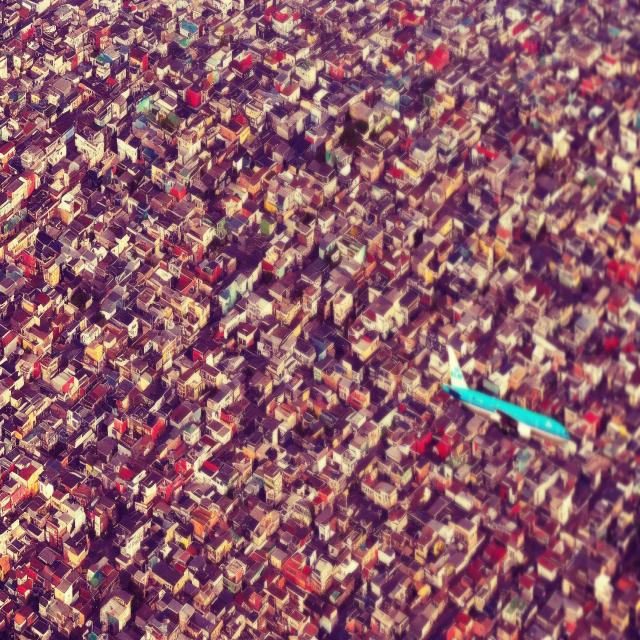airplane: (441, 344, 575, 457)
